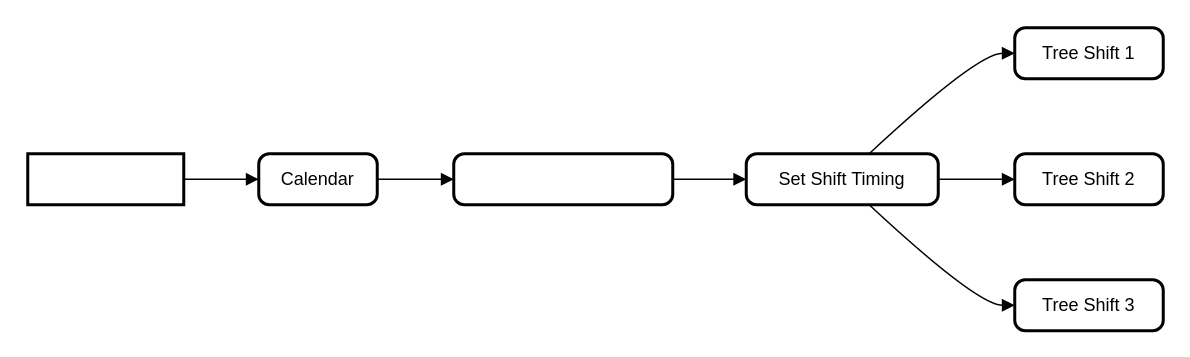
Some shapes in this 1190 by 357 pixel diagram are drawn without their labels. Here are the shapes that lost their labels. From the top down, the box of each, then its label:
(26, 152, 184, 206): Web Page UI
(452, 152, 674, 206): Select Date Range
